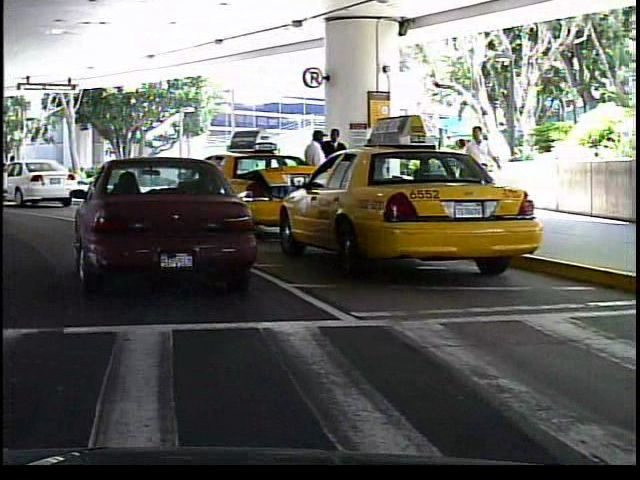person: (461, 120, 501, 221), (300, 126, 329, 218), (448, 131, 479, 208), (322, 126, 348, 212)
